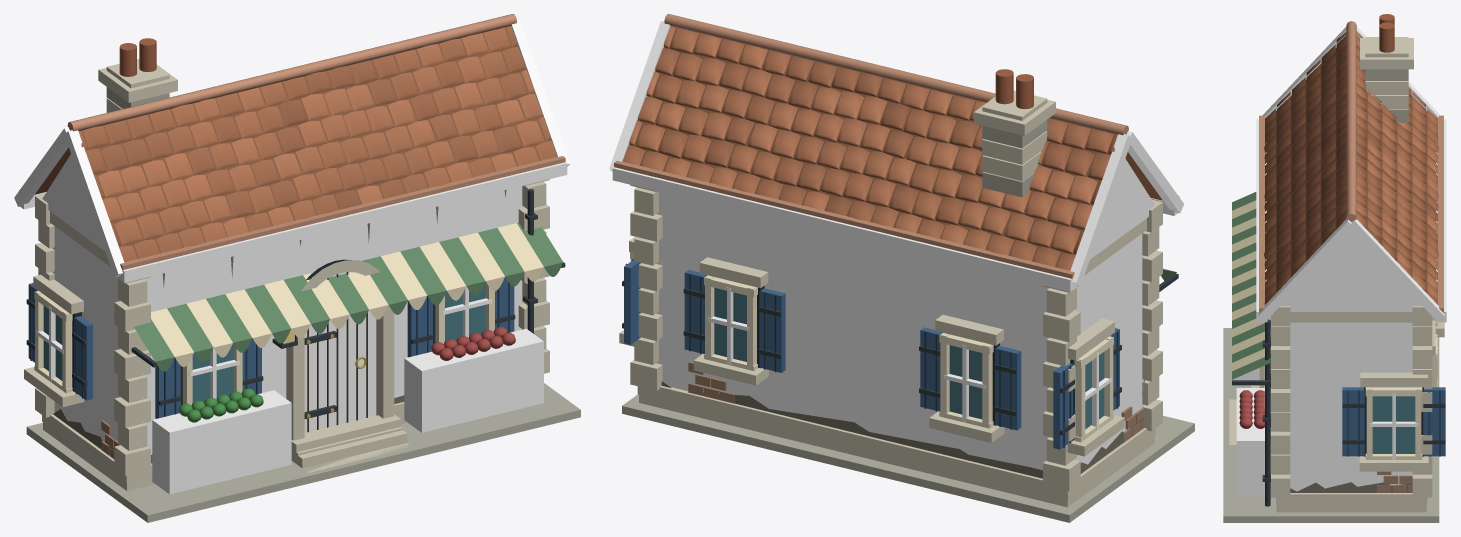
File: market_hall.glb
The picture shows the model from 3 angles, left to right: view 1: azimuth 30°, elevation 25°; view 2: azimuth 150°, elevation 25°; view 3: azimuth 270°, elevation 25°; orthographic projection. The views are drawn at different scales.
Visible parts, largest first — view 1: SourceMesh_00056, SourceMesh_00005, SourceMesh_00000, SourceMesh_00294, SourceMesh_00307, SourceMesh_00047, SourceMesh_00093, SourceMesh_00048, SourceMesh_00049, SourceMesh_00050, SourceMesh_00052, SourceMesh_00095 (+49 smaller); view 2: SourceMesh_00056, SourceMesh_00005, SourceMesh_00000, SourceMesh_00044, SourceMesh_00006, SourceMesh_00045, SourceMesh_00001, SourceMesh_00046, SourceMesh_00050, SourceMesh_00322, SourceMesh_00051, SourceMesh_00219 (+34 smaller); view 3: SourceMesh_00056, SourceMesh_00005, SourceMesh_00053, SourceMesh_00000, SourceMesh_00047, SourceMesh_00044, SourceMesh_00307, SourceMesh_00165, SourceMesh_00006, SourceMesh_00054, SourceMesh_00055, SourceMesh_00174 (+44 smaller).
Part boxes in pixels (x1,y1,x2,y2): SourceMesh_00056: [78, 26, 557, 262]; SourceMesh_00005: [52, 186, 524, 454]; SourceMesh_00000: [26, 383, 580, 522]; SourceMesh_00294: [152, 390, 291, 494]; SourceMesh_00307: [404, 328, 543, 432]; SourceMesh_00047: [81, 27, 545, 258]; SourceMesh_00093: [304, 272, 376, 432]; SourceMesh_00048: [118, 162, 567, 282]; SourceMesh_00049: [120, 156, 565, 269]; SourceMesh_00050: [42, 154, 105, 251]; SourceMesh_00052: [64, 130, 124, 277]; SourceMesh_00095: [376, 305, 394, 418]; SourceMesh_00056: [622, 26, 1117, 270]; SourceMesh_00005: [656, 191, 1144, 470]; SourceMesh_00000: [622, 394, 1194, 522]; SourceMesh_00044: [634, 28, 1114, 267]; SourceMesh_00006: [637, 386, 1155, 499]; SourceMesh_00045: [612, 167, 1076, 291]; SourceMesh_00001: [639, 395, 1154, 507]; SourceMesh_00046: [614, 160, 1074, 279]; SourceMesh_00050: [1090, 159, 1154, 259]; SourceMesh_00322: [661, 381, 1042, 478]; SourceMesh_00051: [1070, 134, 1131, 286]; SourceMesh_00219: [995, 345, 1021, 430]; SourceMesh_00056: [1264, 32, 1438, 304]; SourceMesh_00005: [1281, 322, 1421, 491]; SourceMesh_00053: [1281, 231, 1421, 311]; SourceMesh_00000: [1223, 328, 1439, 522]; SourceMesh_00047: [1267, 45, 1346, 293]; SourceMesh_00044: [1356, 45, 1435, 293]; SourceMesh_00307: [1236, 388, 1264, 495]; SourceMesh_00165: [1372, 396, 1415, 453]; SourceMesh_00006: [1276, 493, 1427, 505]; SourceMesh_00054: [1348, 219, 1444, 321]; SourceMesh_00055: [1258, 219, 1354, 321]; SourceMesh_00174: [1342, 387, 1364, 456].
Size of the model in its own units: 6.89 by 5.7 by 3.31.
